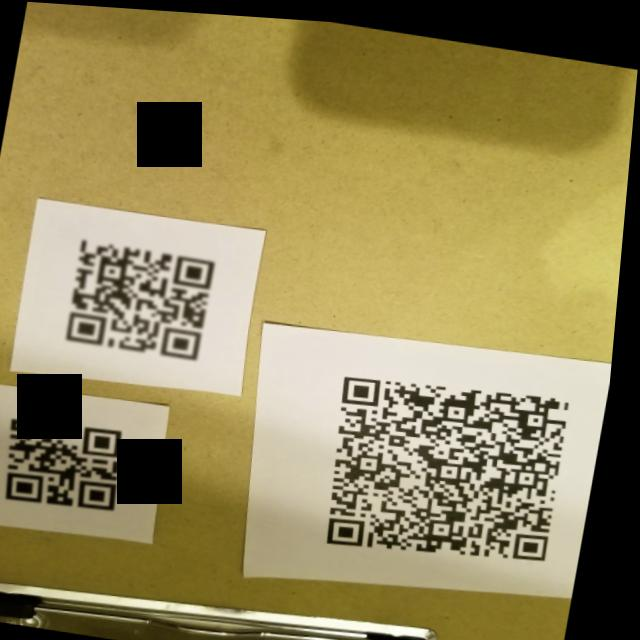QR_CODE: (312, 350, 597, 577), (54, 226, 232, 368), (0, 406, 153, 524)
